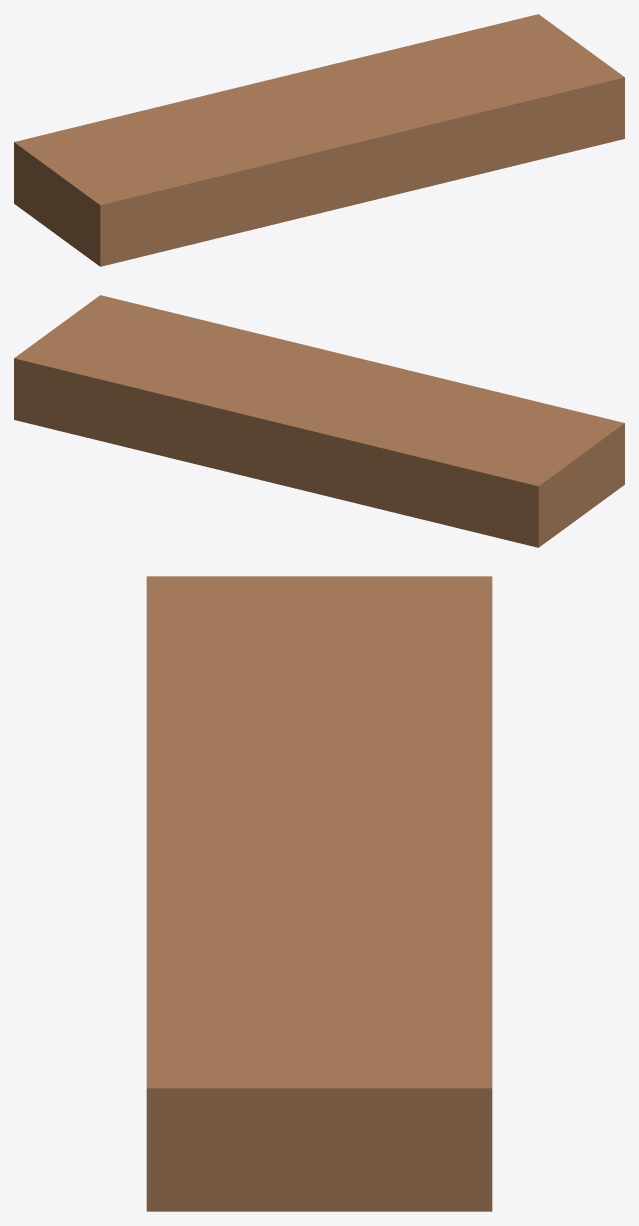
The model's file is wood plank.fbx.
3 renders of one model, top to bottom at view 1: azimuth 30°, elevation 25°; view 2: azimuth 150°, elevation 25°; view 3: azimuth 270°, elevation 25°, orthographic. The views are drawn at different scales.
Visible parts, largest first — view 1: plank; view 2: plank; view 3: plank.
Part boxes in pixels (x1,y1,x2,y2): plank: (14,14,624,266); plank: (14,295,624,547); plank: (146,576,492,1211).
Size of the model in its own units: 701 by 78.62 by 200.
